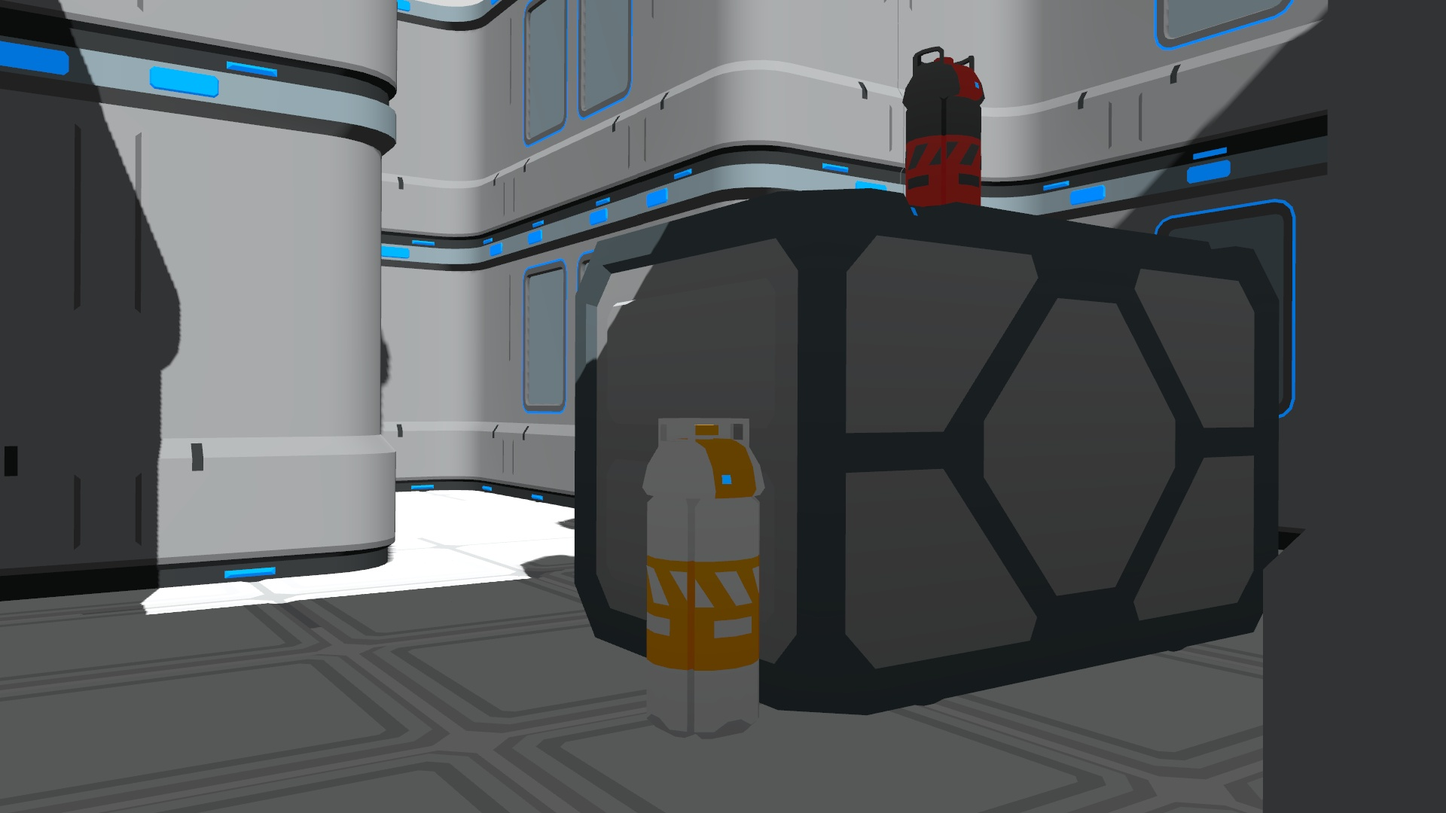red_barrel: (898, 40, 989, 212)
yellow_barrel: (641, 405, 770, 740)
